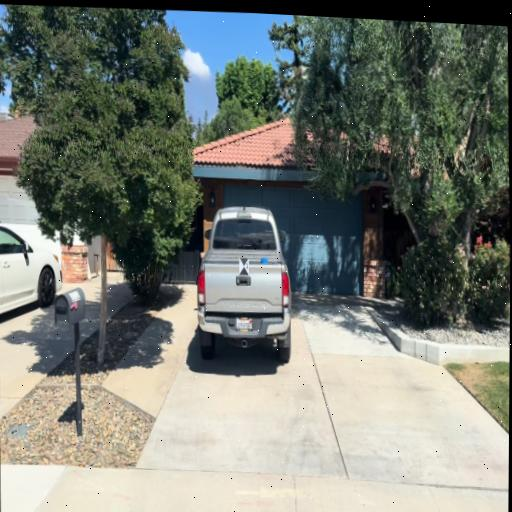target1: (240, 258, 250, 275)
